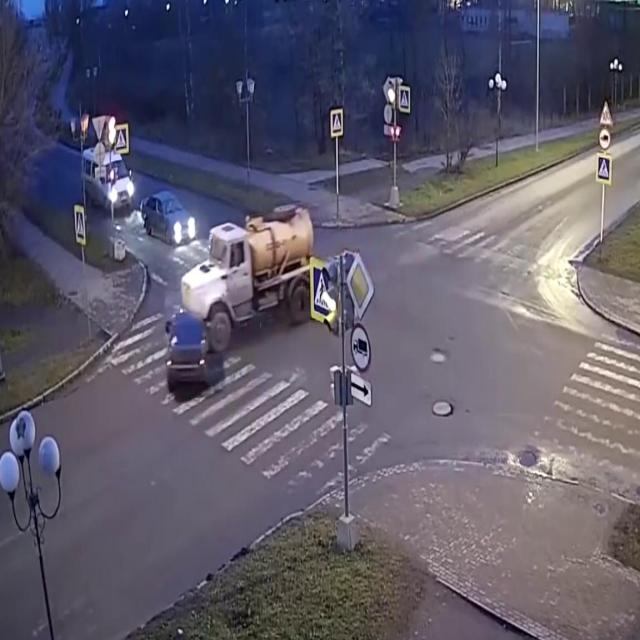accident: (159, 185, 329, 399)
